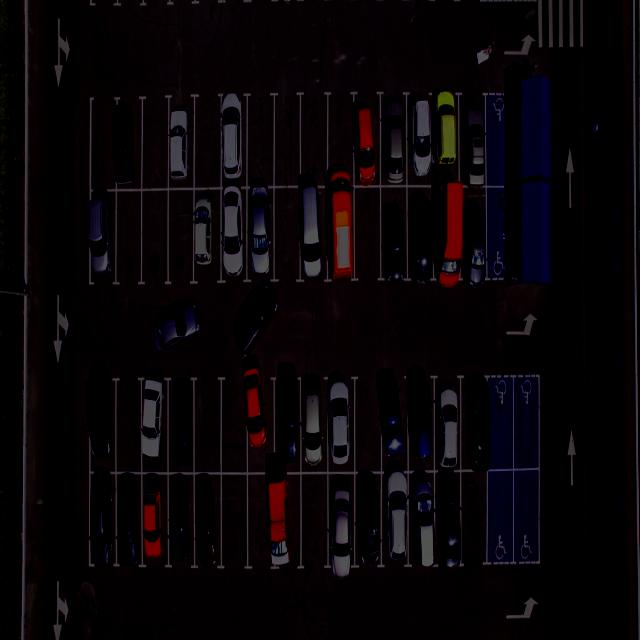empty: (193, 376, 225, 473), (351, 188, 384, 282), (509, 469, 541, 565), (220, 371, 250, 472), (300, 474, 331, 570), (113, 191, 145, 284), (485, 470, 516, 566), (114, 375, 145, 469), (140, 192, 171, 286), (509, 376, 540, 470), (272, 183, 302, 279), (459, 468, 488, 567), (193, 97, 224, 187), (220, 475, 250, 567), (353, 375, 382, 469), (140, 96, 170, 186), (167, 192, 196, 285), (488, 374, 516, 469), (246, 94, 276, 182), (272, 95, 302, 182), (247, 473, 274, 568), (299, 94, 329, 179), (87, 99, 114, 190), (328, 94, 356, 178)
occupied: (267, 473, 303, 570), (244, 370, 278, 470), (378, 468, 412, 568), (432, 182, 464, 286), (327, 471, 360, 571), (352, 471, 385, 571), (83, 374, 116, 474), (296, 183, 329, 282), (136, 474, 170, 570), (466, 188, 498, 289), (409, 471, 441, 570), (376, 372, 408, 470), (167, 375, 200, 470), (113, 99, 147, 191), (272, 372, 304, 469), (192, 472, 224, 568), (326, 374, 358, 470), (217, 186, 249, 282), (113, 472, 145, 568), (326, 185, 358, 281), (138, 376, 170, 471), (248, 188, 280, 283), (296, 374, 327, 472), (85, 473, 116, 571), (378, 187, 409, 284), (464, 376, 495, 472), (407, 187, 437, 286), (193, 188, 224, 281), (168, 98, 200, 188), (168, 474, 198, 570), (379, 94, 410, 186), (86, 191, 116, 286), (406, 372, 436, 467), (406, 93, 438, 182), (431, 94, 463, 183), (435, 470, 464, 568), (431, 377, 462, 468), (461, 94, 492, 184), (218, 97, 249, 186), (352, 96, 382, 185)
